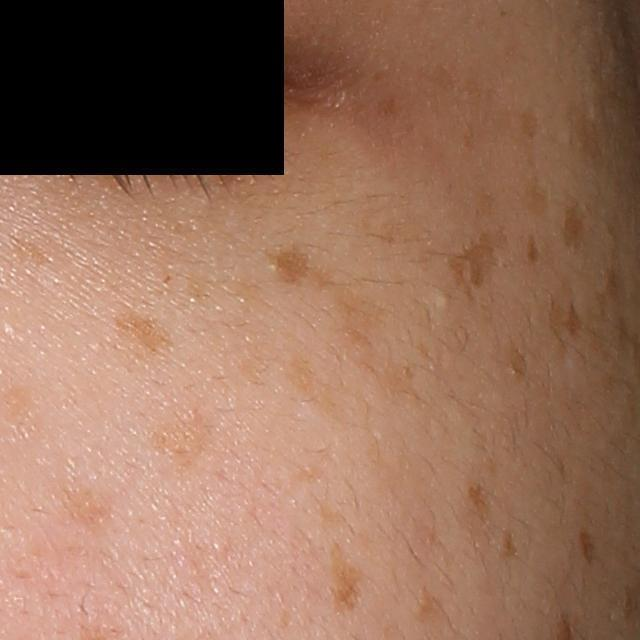comedo: (431, 289, 451, 312)
melasma: (154, 407, 208, 473), (104, 313, 174, 355), (326, 545, 367, 616), (58, 483, 115, 528), (258, 245, 319, 285), (9, 232, 49, 271), (463, 483, 492, 532), (503, 532, 528, 565)
